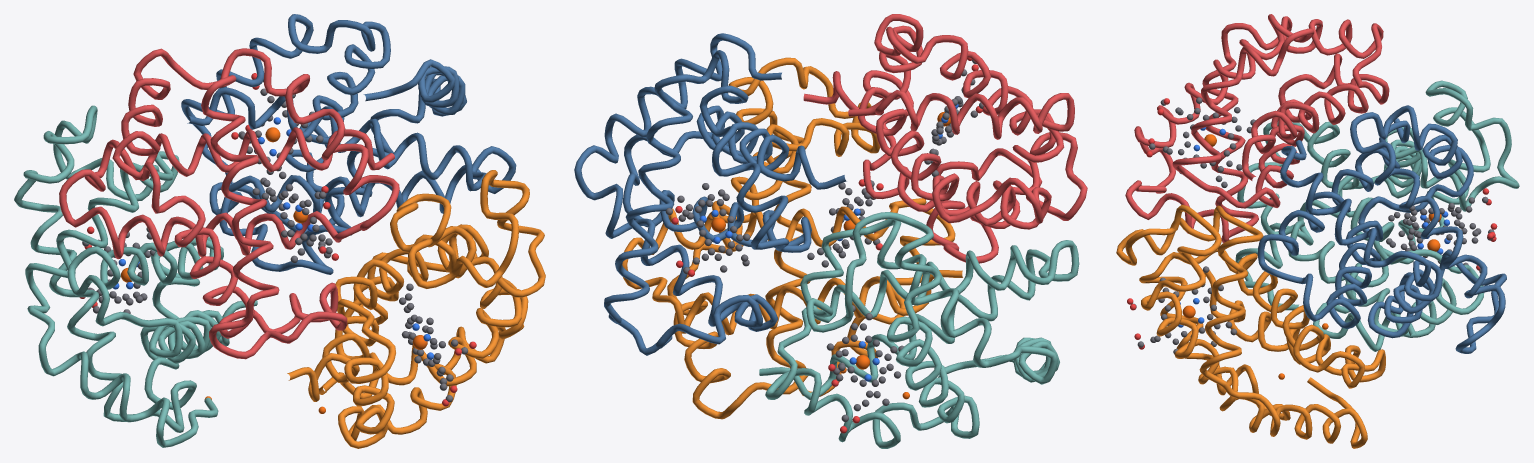
3 views of the same model, side by side, from view 1: azimuth 30°, elevation 25°; view 2: azimuth 150°, elevation 25°; view 3: azimuth 270°, elevation 25° (orthographic). The views are drawn at different scales.
Size of the model in its own units: 63.2 by 53.74 by 55.27.
